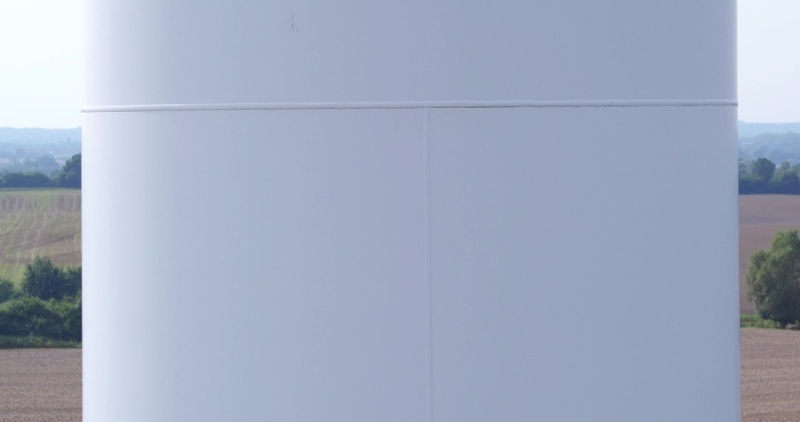weldseam: (74, 96, 744, 118), (421, 94, 439, 422)
